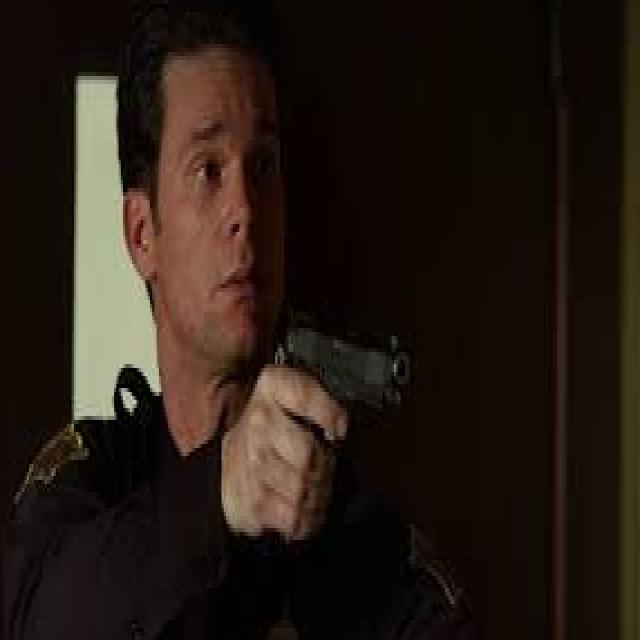gun: (259, 283, 427, 508)
